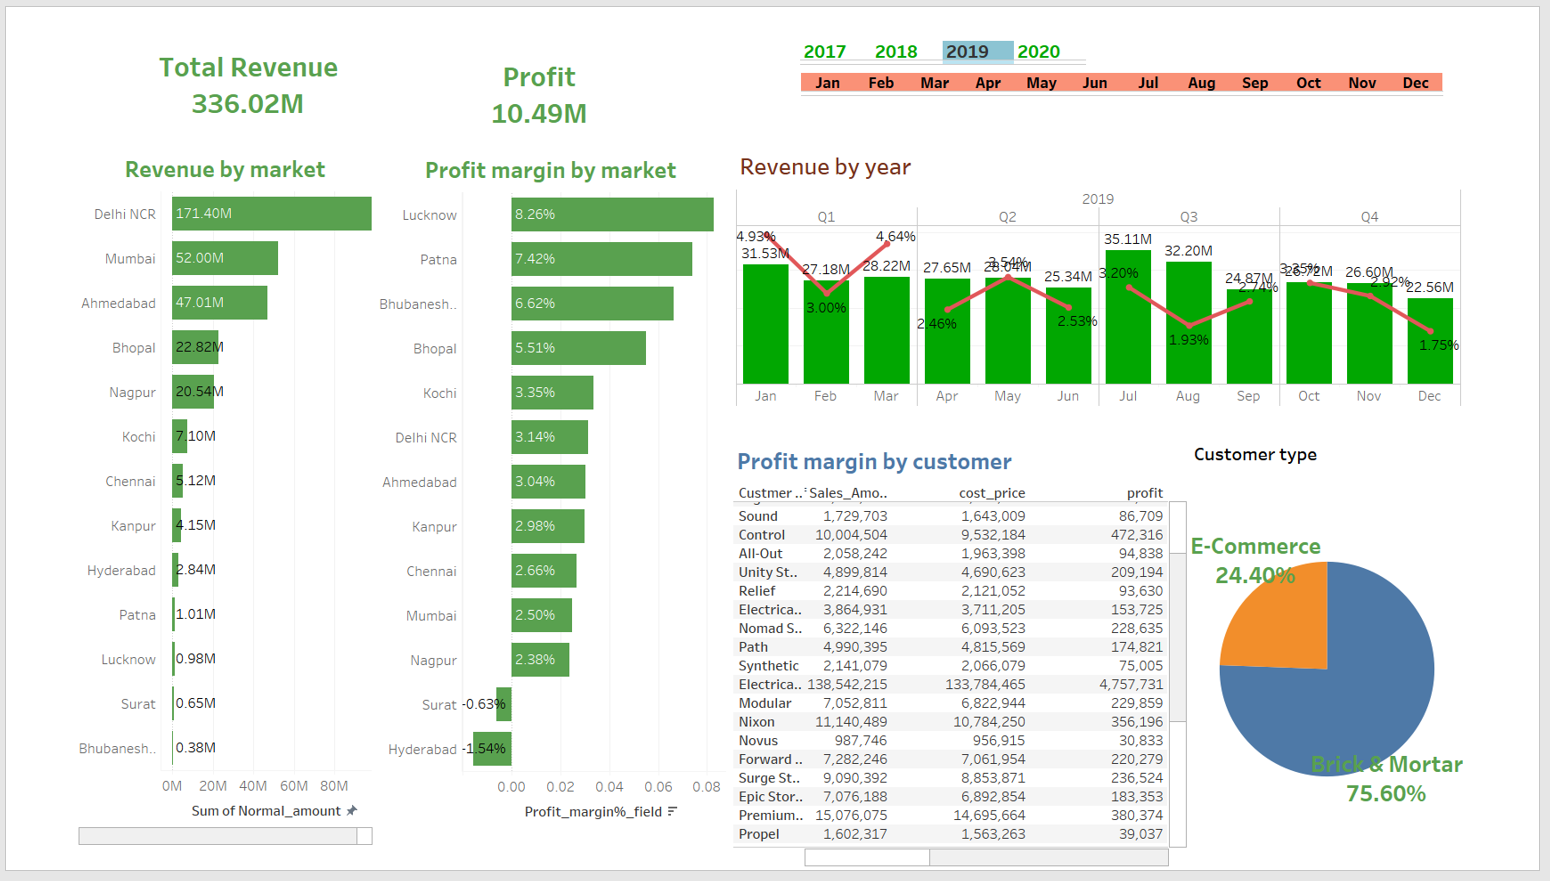

Layout of this report page (visuals, bound fields, positions):
{"tool":"tableau","page":{"name":"DBD__Profit_Analysis","canvas":[1566,968],"ordinal":1},"visuals":[{"type":"worksheet","title":"Year filter","mark":"Automatic","cols":["cy_date"],"box":[814,23,344,46]},{"type":"worksheet","title":"Revenue","mark":"Automatic","box":[85,31,226,117]},{"type":"worksheet","title":"profit","mark":"Automatic","box":[462,42,206,110]},{"type":"worksheet","title":"month_filter","mark":"Automatic","cols":["cy_date"],"box":[815,59,748,69]},{"type":"worksheet","title":"Profit_margin_year","mark":"Bar","rows":["Calculation_332984931575488516","Calculation_287667460759396352"],"cols":["cy_date"],"box":[742,155,814,294]},{"type":"worksheet","title":"Revenue_Markets","mark":"Automatic","rows":["markets_name"],"cols":["Calculation_332984931575488516"],"box":[4,158,329,814]},{"type":"worksheet","title":"Profit_Markets","mark":"Automatic","rows":["markets_name"],"cols":["Calculation_287667460759396352"],"box":[338,159,392,803]},{"type":"worksheet","title":"pie_chart","mark":"Pie","box":[1252,481,307,482]},{"type":"worksheet","title":"Profit margin_customer","mark":"Automatic","rows":["custmer_name"],"box":[739,486,509,479]}]}

Visuals, with their boxes on the page's 1566x968 design canvas (x1, y1, x2, y2). These are canvas units, not pixel positions in the 1550x881 screenshot, which may show the page scaled, cropped or inside an application window:
"Year filter" worksheet: locate(814, 23, 1158, 69)
"Revenue" worksheet: locate(85, 31, 311, 148)
"profit" worksheet: locate(462, 42, 668, 152)
"month_filter" worksheet: locate(815, 59, 1563, 128)
"Profit_margin_year" worksheet (Bar marks): locate(742, 155, 1556, 449)
"Revenue_Markets" worksheet: locate(4, 158, 333, 972)
"Profit_Markets" worksheet: locate(338, 159, 730, 962)
"pie_chart" worksheet (Pie marks): locate(1252, 481, 1559, 963)
"Profit margin_customer" worksheet: locate(739, 486, 1248, 965)
